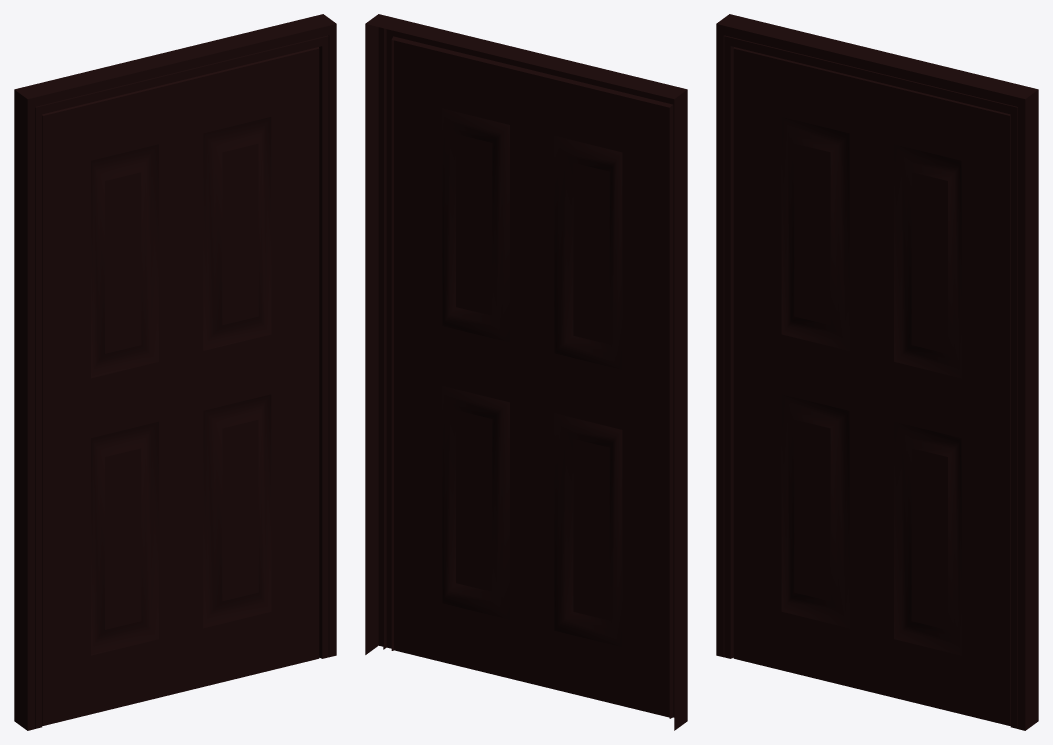
Rendered from StudyRoom_Door.FBX.
3 views of the same model, side by side, from view 1: azimuth 30°, elevation 25°; view 2: azimuth 150°, elevation 25°; view 3: azimuth 330°, elevation 25° (orthographic).
Visible parts, largest first — view 1: door; view 2: door; view 3: door.
Part boxes in pixels (<box>): door: <box>14,14,336,730</box>; door: <box>365,14,687,730</box>; door: <box>716,14,1038,730</box>.
Bounding box in the file's own units: 0.8751 × 1.71 × 0.0659.
